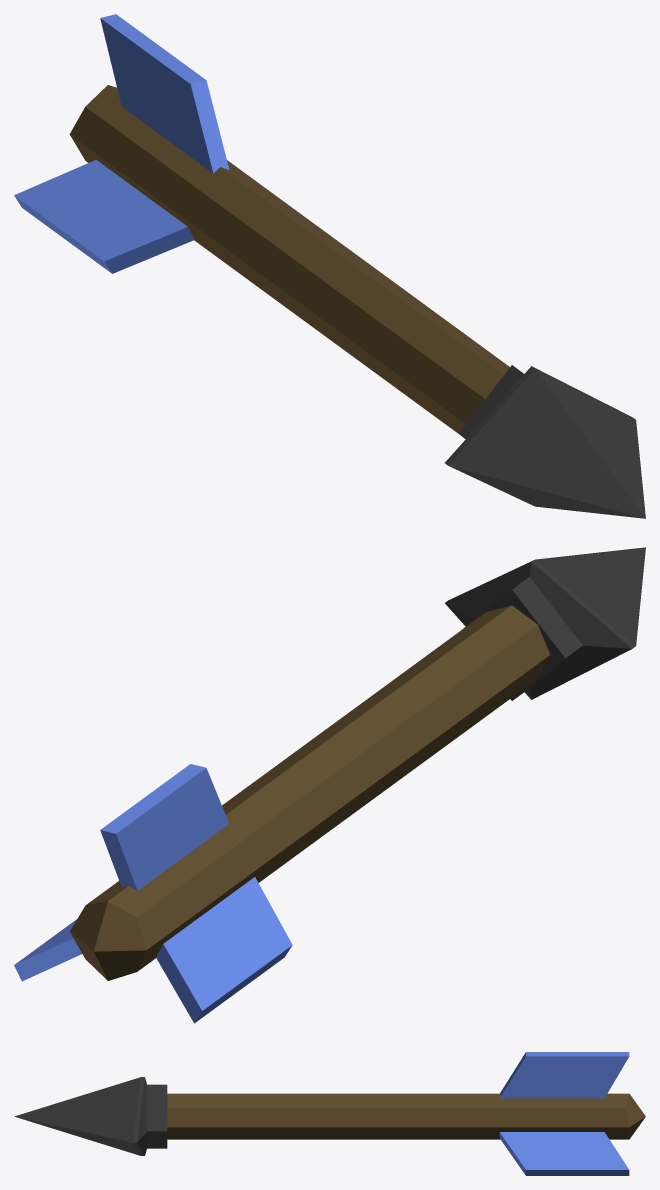
Rendered from Arrow.fbx.
3 renders of one model, top to bottom at view 1: azimuth 30°, elevation 25°; view 2: azimuth 150°, elevation 25°; view 3: azimuth 270°, elevation 25°, orthographic. The views are drawn at different scales.
Parts seen in each view (by area): view 1: Shaft, ArrowHead, Feather.001, Feather; view 2: Shaft, ArrowHead, Feather.001, Feather, Feather.002; view 3: Shaft, ArrowHead, Feather, Feather.002.
Part boxes in pixels (x1,y1,x2,y2): Shaft: [69, 85, 509, 433]; ArrowHead: [445, 365, 645, 518]; Feather.001: [14, 160, 194, 273]; Feather: [100, 14, 229, 173]; Shaft: [70, 605, 550, 980]; ArrowHead: [445, 547, 645, 700]; Feather.001: [156, 877, 292, 1023]; Feather: [100, 764, 229, 890]; Feather.002: [14, 919, 82, 981]; Shaft: [167, 1093, 645, 1139]; ArrowHead: [14, 1077, 167, 1155]; Feather: [500, 1052, 629, 1098]; Feather.002: [499, 1132, 629, 1175].
Size of the model in its own units: 0.1675 by 0.1512 by 0.8511.
